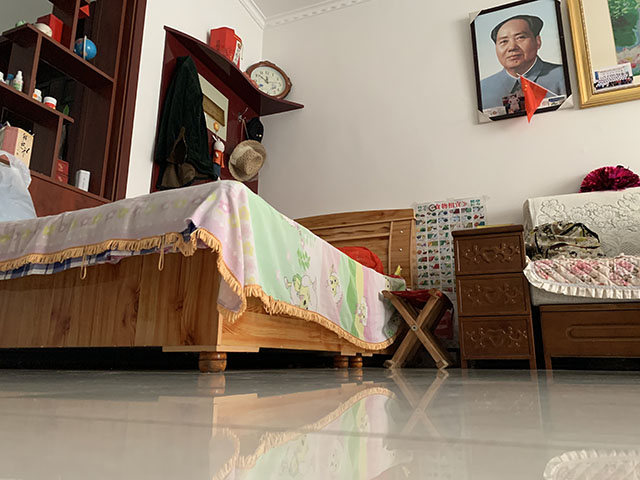bed: (1, 178, 419, 374)
sofa: (450, 186, 640, 371)
stool: (380, 287, 450, 370)
